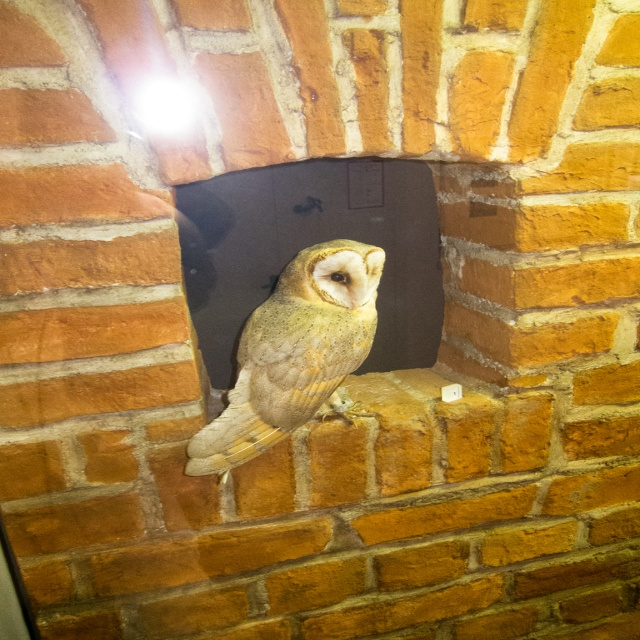Owl: (177, 237, 388, 480)
